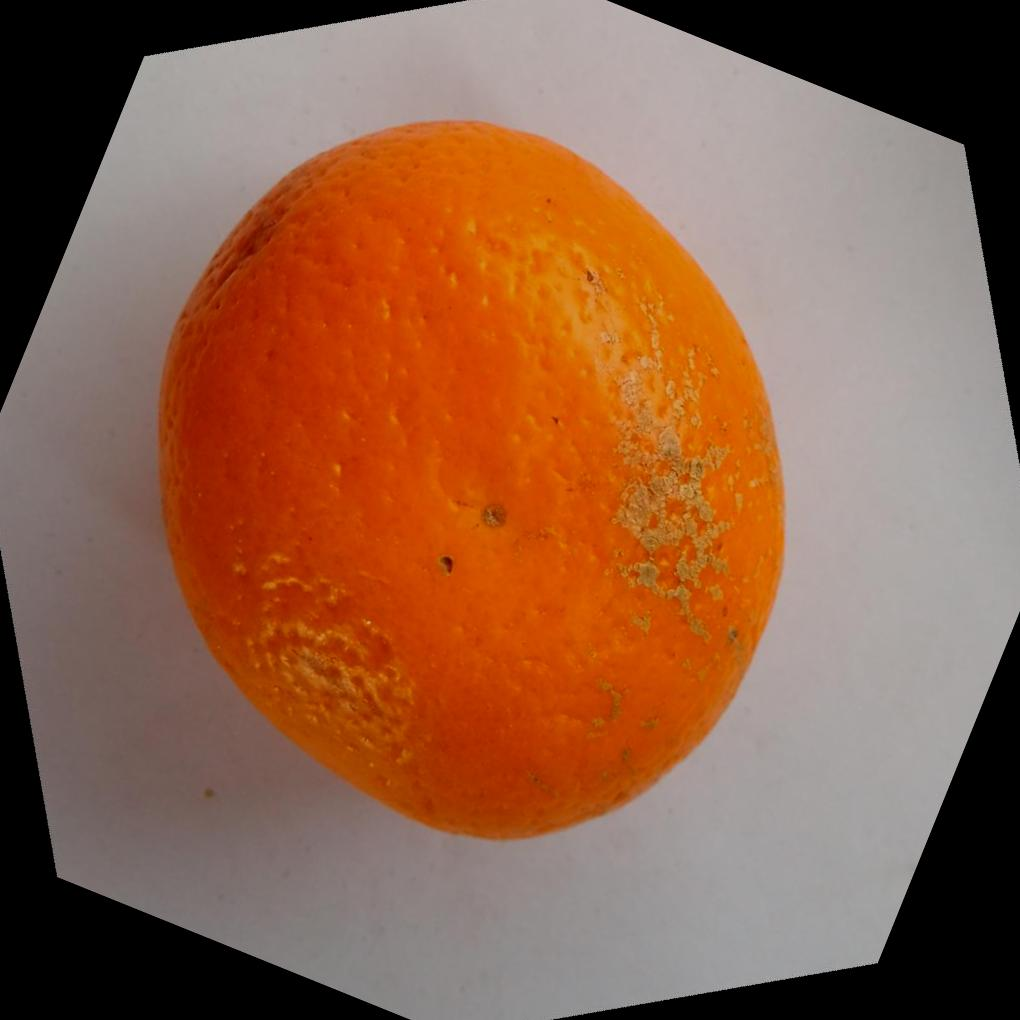FreshGuava: (157, 118, 790, 844)
